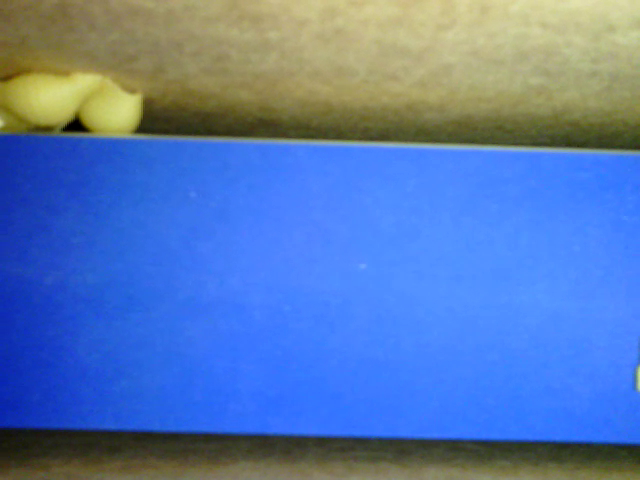shell: (1, 73, 102, 125), (81, 74, 142, 133), (1, 108, 78, 136)
